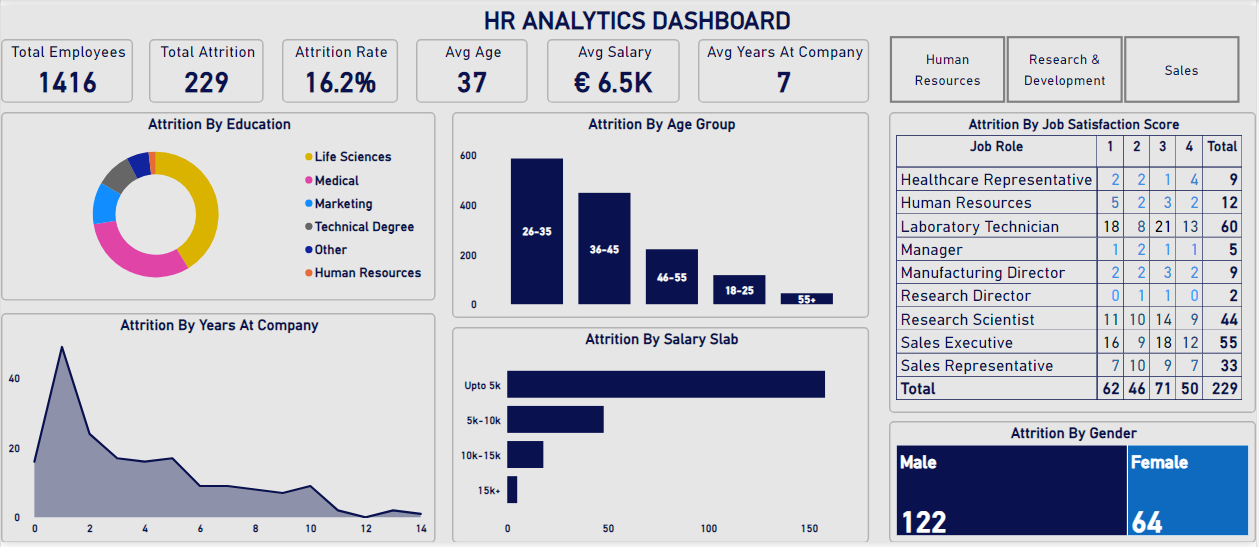

What the dashboard file says about the page in this screenshot:
{"tool":"powerbi","page":{"name":"Page 1","canvas":[1730,740],"ordinal":0},"visuals":[{"type":"card","title":"Total Employees","fields":{"Values":["CountNonNull(HR_Analysis.Emp ID)"]},"box":[0,45.8,181.9,87.5],"z":0},{"type":"card","title":"Total Attrition","fields":{"Values":["Sum(HR_Analysis.Attrition Count)"]},"box":[204.2,45.8,158.3,87.5],"z":1000},{"type":"card","title":"Attrition Rate","fields":{"Values":["HR_Analysis.Attrition Rate"]},"box":[387.5,45.8,159.7,87.5],"z":2000},{"type":"card","title":"Avg Age","fields":{"Values":["Avg(HR_Analysis.Age)"]},"box":[572.2,45.8,154.2,87.5],"z":3000},{"type":"card","title":"Avg Salary","fields":{"Values":["Avg(HR_Analysis.Monthly Income)"]},"box":[752.8,45.8,183.3,87.5],"z":4000},{"type":"card","title":"Avg Years At Company","fields":{"Values":["Avg(HR_Analysis.Years At Company)"]},"box":[961.1,45.8,236.1,87.5],"z":5000},{"type":"donutChart","title":"Attrition By Education","fields":{"Category":["HR_Analysis.Education Field"],"Y":["CountNonNull(HR_Analysis.Attrition)"]},"box":[0,145.8,598.6,259.7],"z":6000},{"type":"columnChart","title":"Attrition By Age Group","fields":{"Y":["CountNonNull(HR_Analysis.Attrition)"],"Category":["HR_Analysis.Age Group"]},"box":[621.7,146.1,574.8,284],"z":7000},{"type":"pivotTable","title":"Attrition By Job Satisfaction Score","fields":{"Rows":["HR_Analysis.Job Role"],"Columns":["HR_Analysis.Job Satisfaction"],"Values":["Sum(HR_Analysis.Attrition Count)"]},"box":[1224.1,146.1,505.9,414.9],"z":8000},{"type":"barChart","title":"Attrition By Salary Slab","fields":{"Category":["HR_Analysis.Salary Slab"],"Y":["Sum(HR_Analysis.Attrition Count)"]},"box":[621.7,442.5,574.8,297.8],"z":9000},{"type":"areaChart","title":"Attrition By Years At Company","fields":{"Y":["Sum(HR_Analysis.Attrition Count)"],"Category":["HR_Analysis.Years At Company"]},"box":[0,423.6,598.6,316.7],"z":10000},{"type":"treemap","title":"Attrition By Gender","fields":{"Group":["HR_Analysis.Gender"],"Values":["Sum(HR_Analysis.Attrition Count)"]},"box":[1224.1,572.1,505.9,168.2],"z":11000},{"type":"slicer","fields":{"Values":["HR_Analysis.Department"]},"box":[1198.6,34.7,531.9,105.6],"z":12000},{"type":"textbox","box":[620,0,536.1,45],"z":13000}]}

Visuals, with their boxes in screenshot pixels (x1, y1, x2, y2), scaled from the page's 1730x740 canvas onto the 1259x547 screenshot:
"Total Employees" card: 0/34/132/99
"Total Attrition" card: 149/34/264/99
"Attrition Rate" card: 282/34/398/99
"Avg Age" card: 416/34/529/99
"Avg Salary" card: 548/34/681/99
"Avg Years At Company" card: 699/34/871/99
"Attrition By Education" donutChart: 0/108/436/300
"Attrition By Age Group" columnChart: 452/108/871/318
"Attrition By Job Satisfaction Score" pivotTable: 891/108/1258/415
"Attrition By Salary Slab" barChart: 452/327/871/546
"Attrition By Years At Company" areaChart: 0/313/436/546
"Attrition By Gender" treemap: 891/423/1258/546
slicer - HR_Analysis.Department: 872/26/1258/104
textbox: 451/0/841/33
